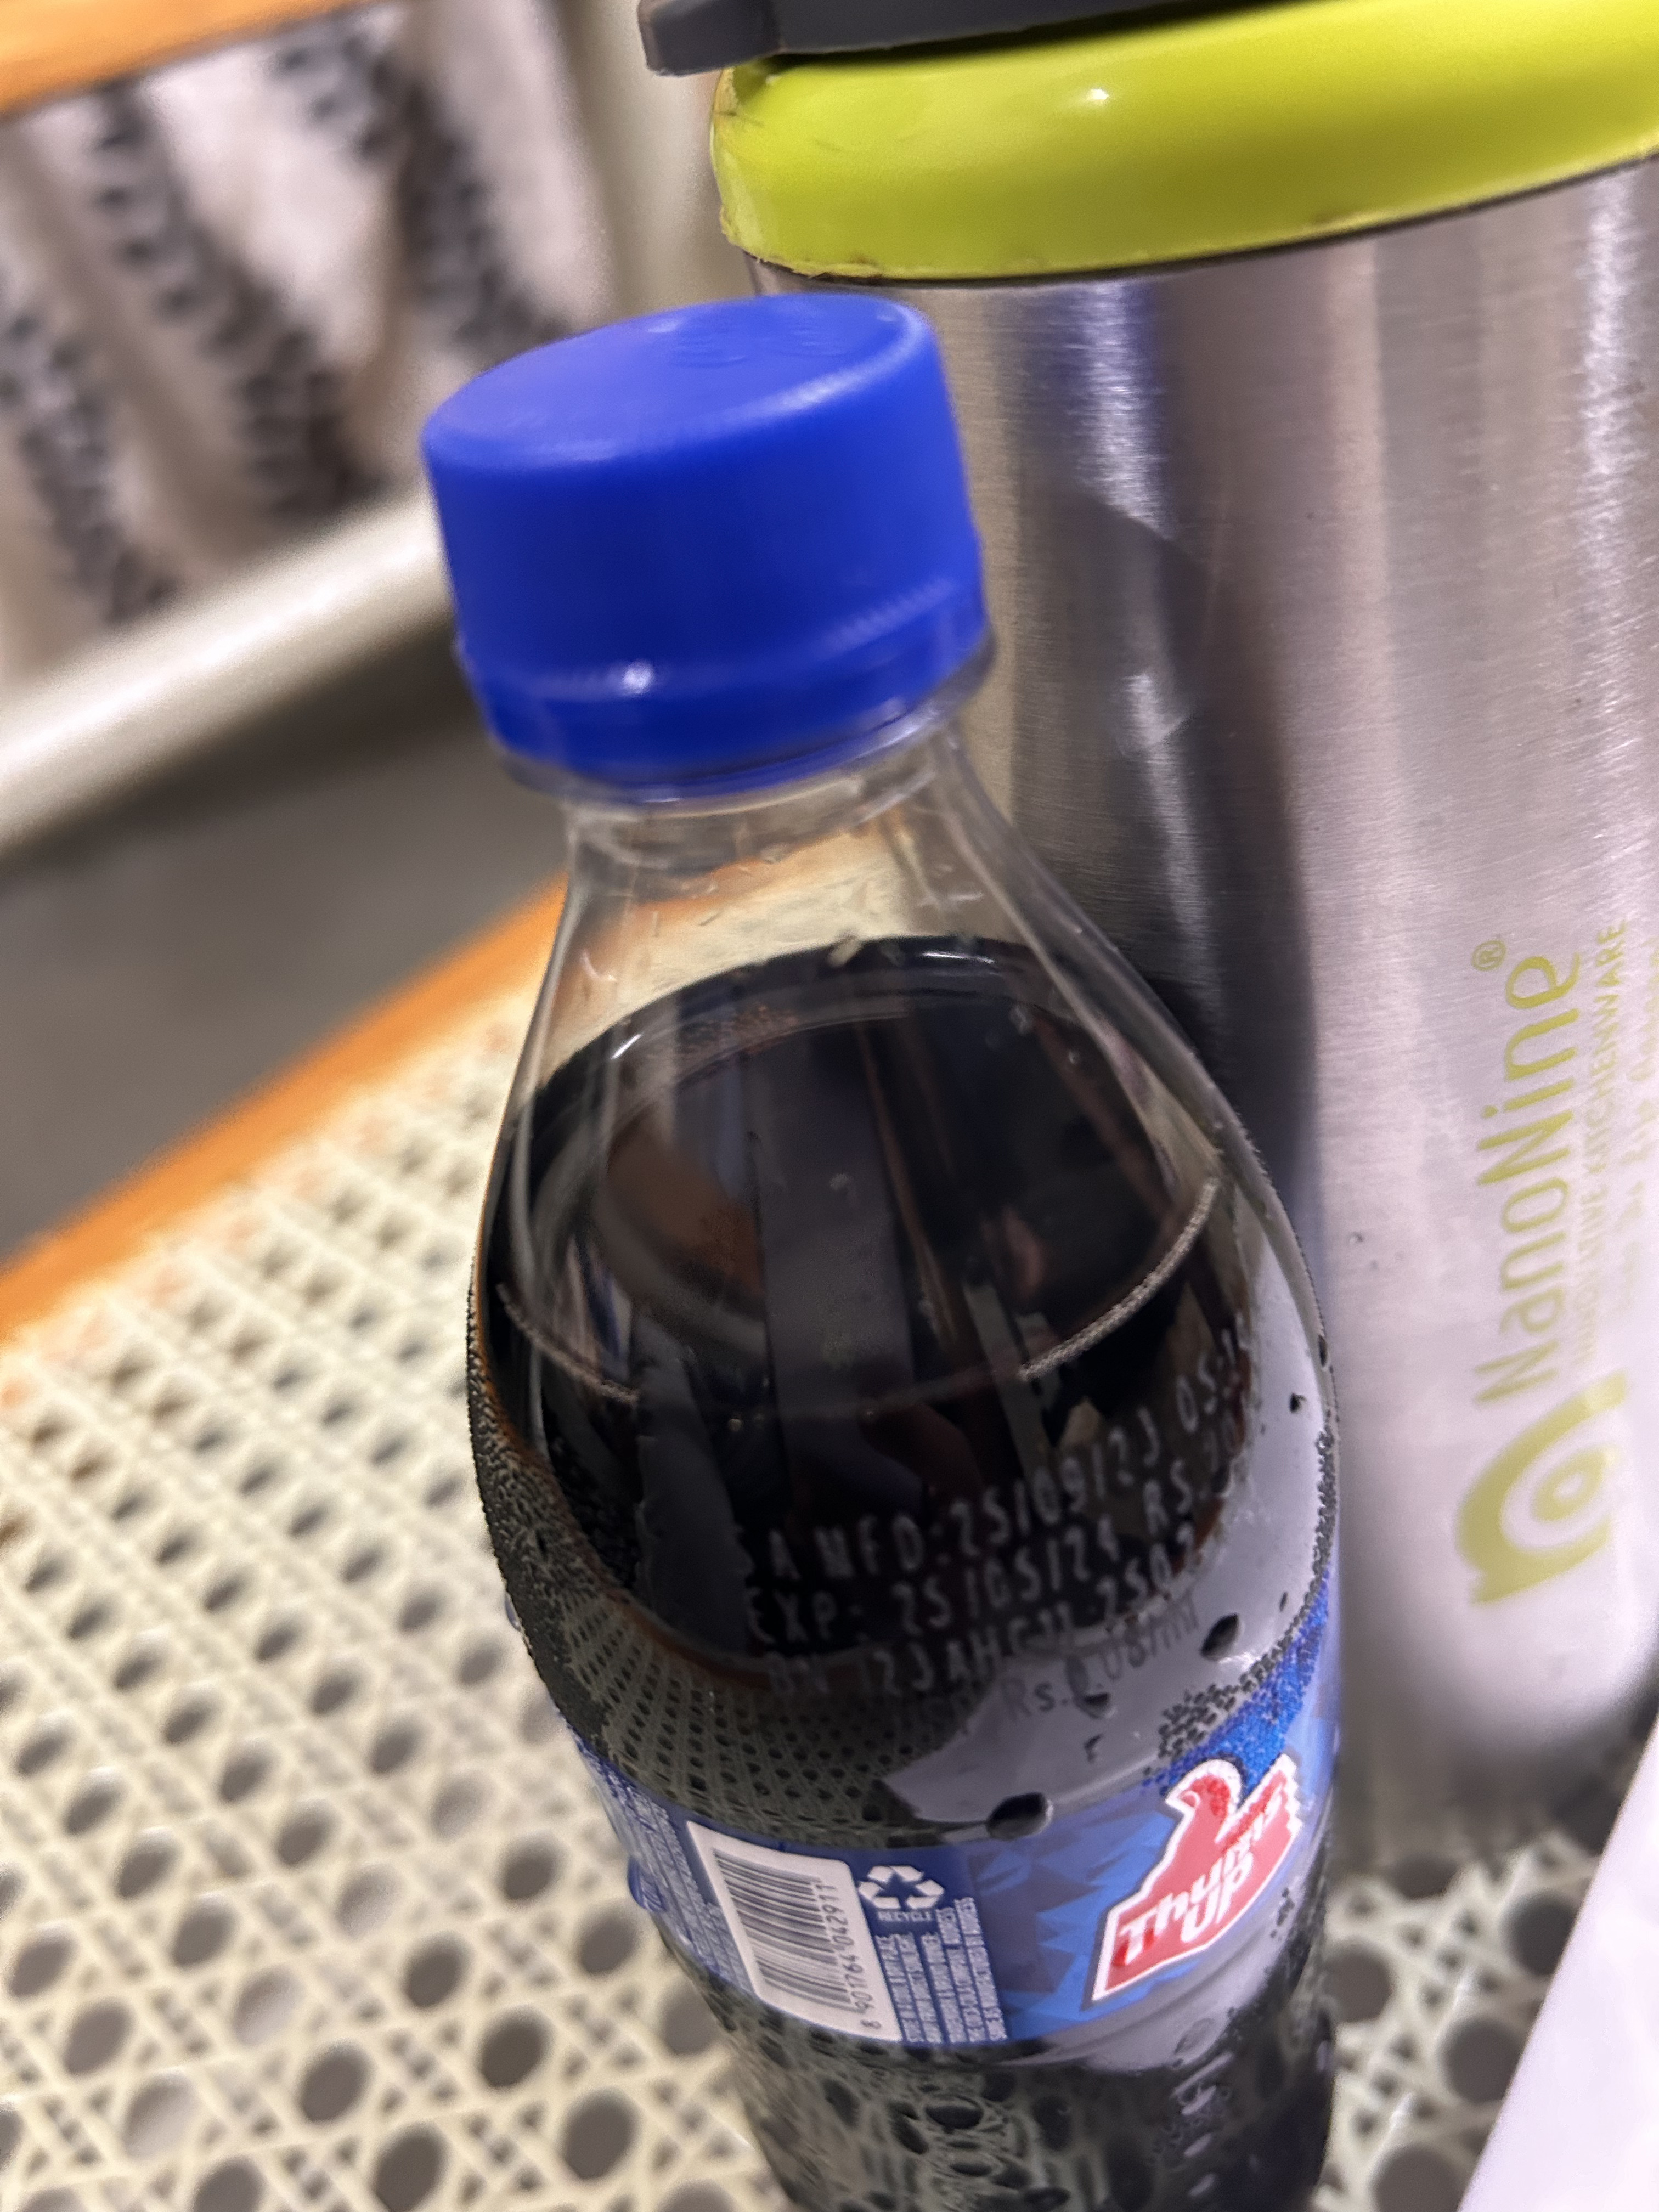sealstable: (401, 275, 1066, 824)
